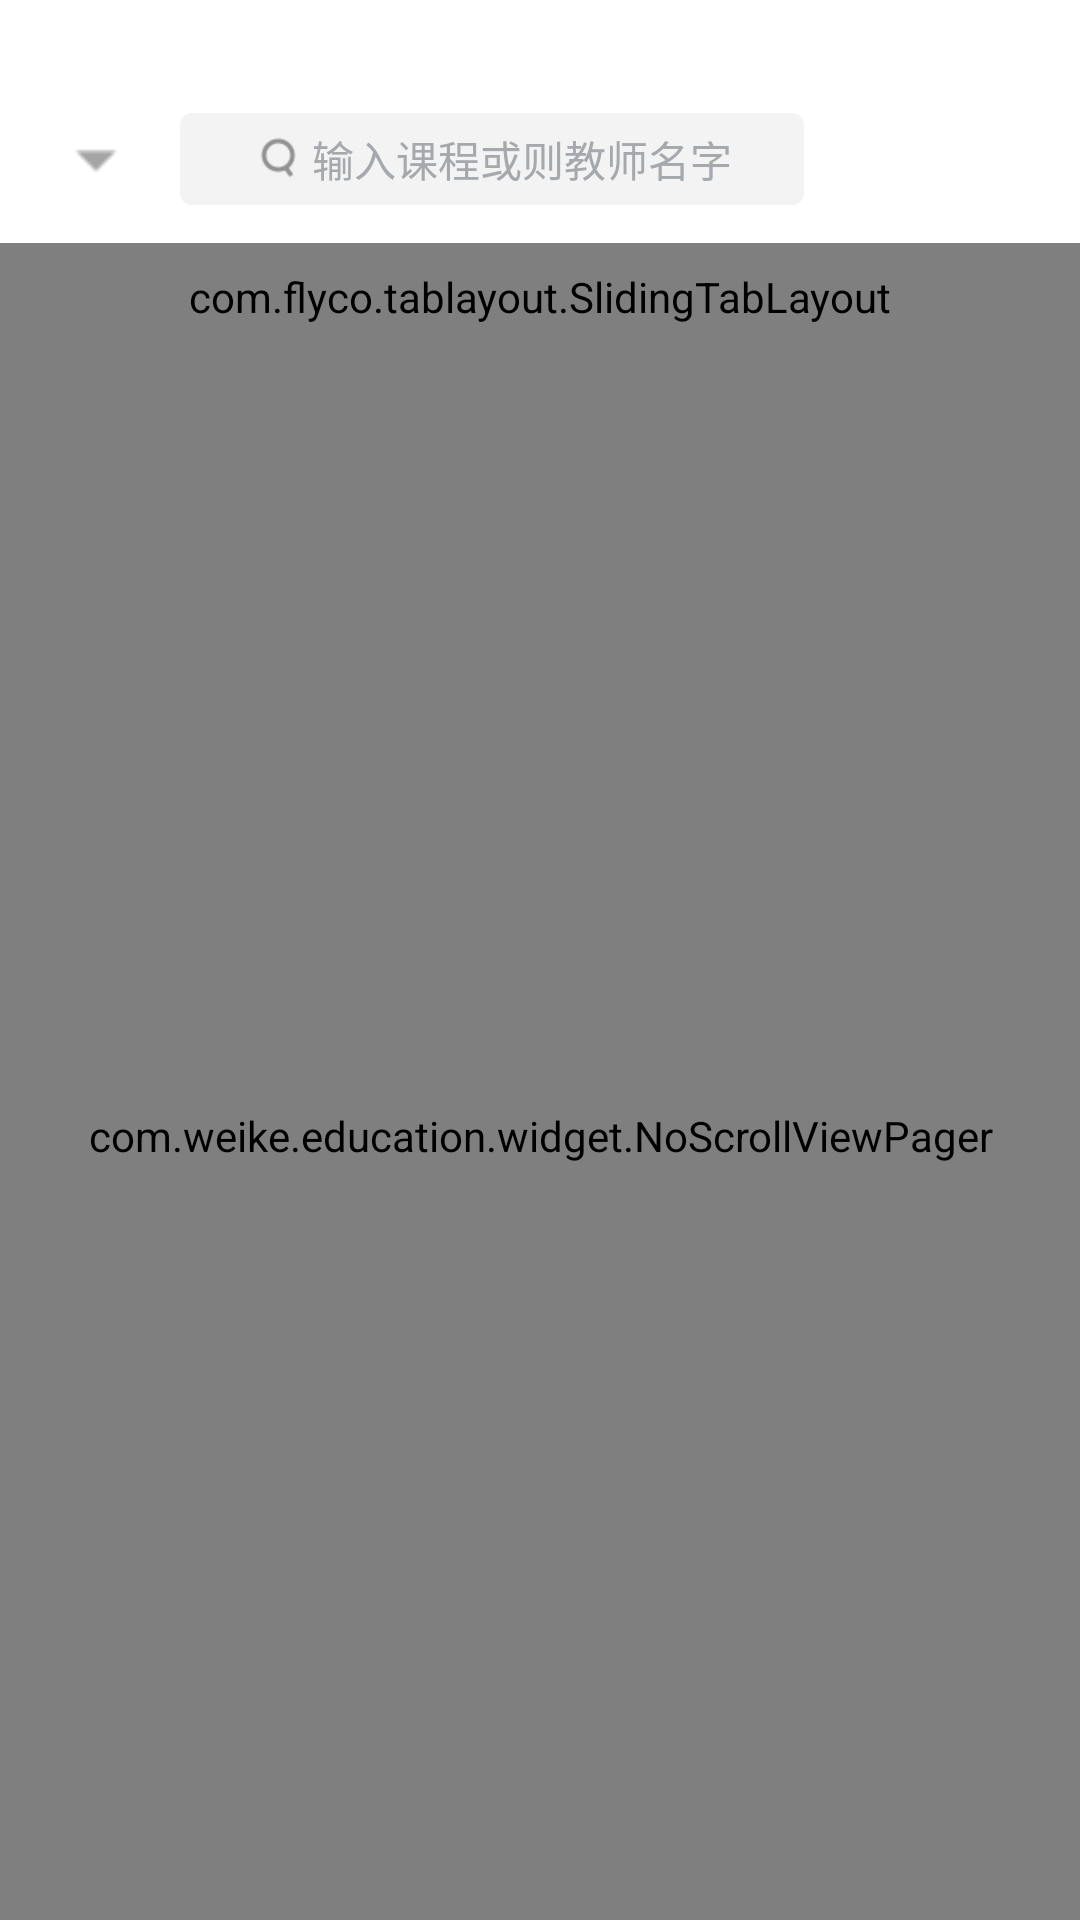

Where icons sit on this 1080 × 1920 app screen, as (x1, y1, x2, y2):
down: (77, 150, 115, 171)
